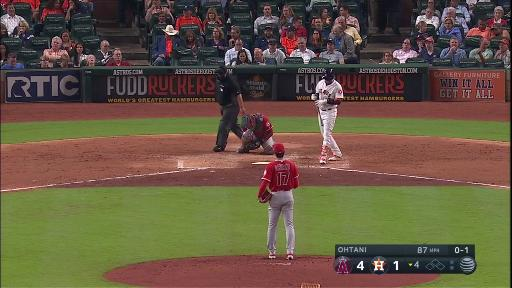pitcher: (258, 143, 300, 262)
